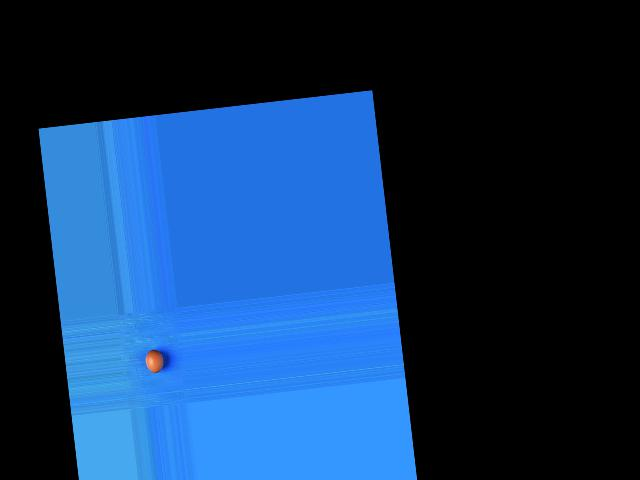egg: (144, 349, 165, 373)
